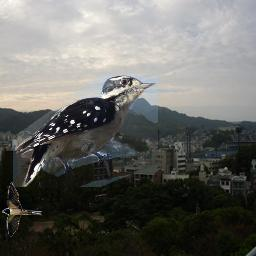Swallow: (2, 182, 43, 237)
Woodpecker: (13, 74, 158, 187)
